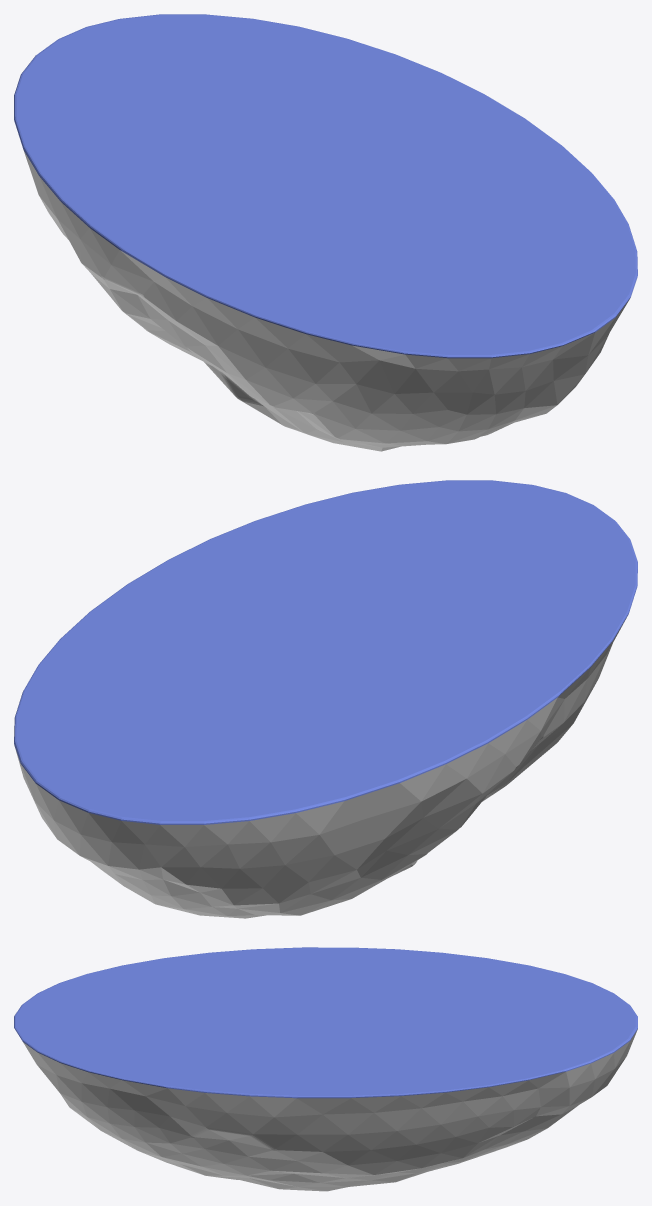
The model's file is Island3.fbx.
3 views of the same model, one above another, from view 1: azimuth 30°, elevation 25°; view 2: azimuth 150°, elevation 25°; view 3: azimuth 270°, elevation 25° (orthographic). The views are drawn at different scales.
Visible parts, largest first — view 1: Island3; view 2: Island3; view 3: Island3.
Part boxes in pixels (x1=…): Island3: x1=14, y1=14, x2=637, y2=451; Island3: x1=14, y1=480, x2=637, y2=918; Island3: x1=14, y1=947, x2=637, y2=1191.
Bounding box in the file's own units: 12.92 × 6.32 × 22.79.
